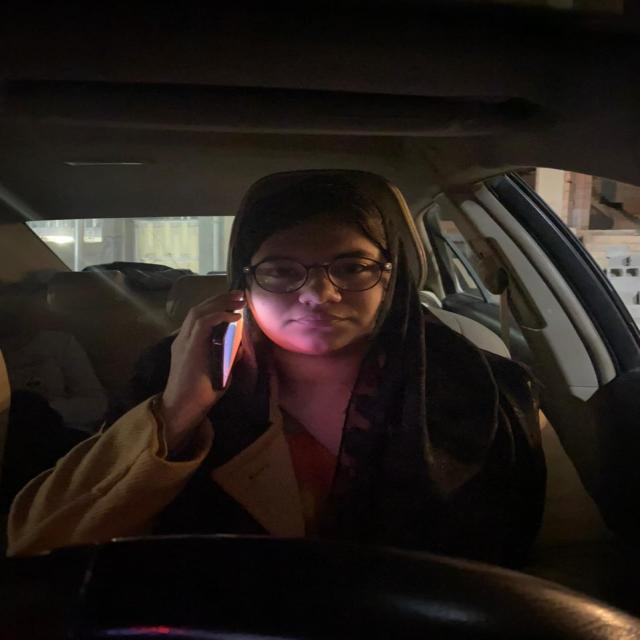mobile: (216, 300, 256, 392)
person: (239, 202, 399, 353)
